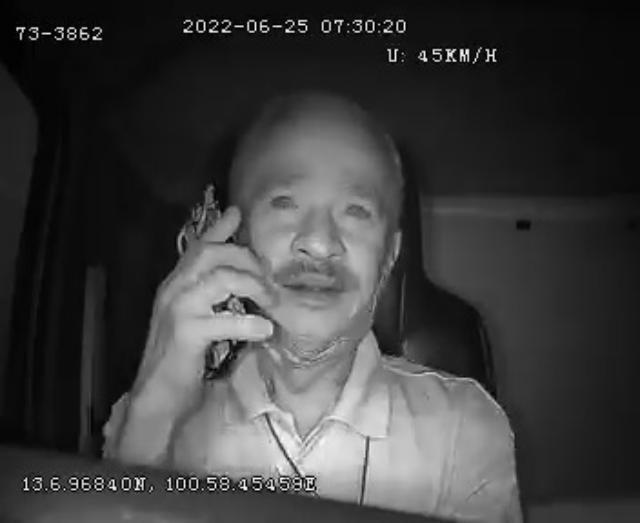PhoneUse: (172, 182, 255, 375)
SafeDriving: (332, 186, 384, 232), (260, 180, 309, 218)
